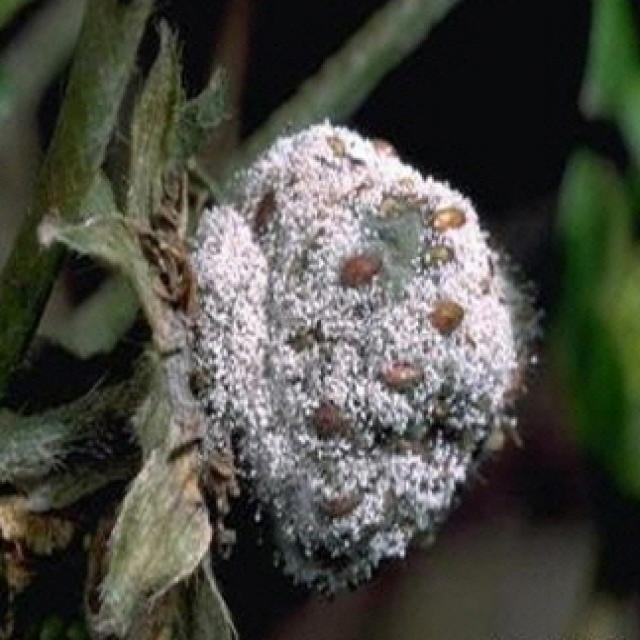Gray Mold: (160, 121, 546, 599)
